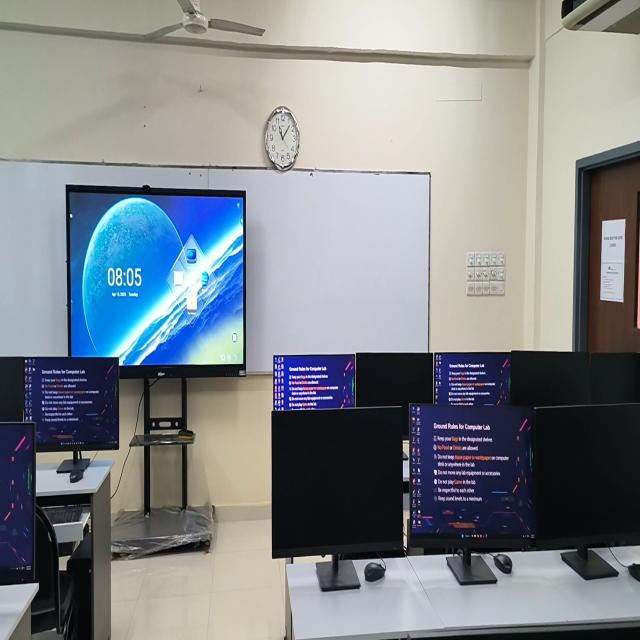Chair: (31, 505, 76, 639)
Digital board: (66, 184, 246, 377)
Keyboard: (46, 505, 89, 524)
Monitor: (272, 407, 405, 560), (411, 405, 534, 536), (533, 404, 640, 548), (24, 358, 119, 451), (355, 353, 433, 435), (0, 423, 36, 584), (273, 354, 355, 410), (510, 351, 589, 407), (435, 353, 511, 405), (589, 353, 640, 404), (0, 357, 25, 421)
Mouse: (364, 561, 386, 582), (493, 553, 512, 573), (70, 464, 84, 483)
